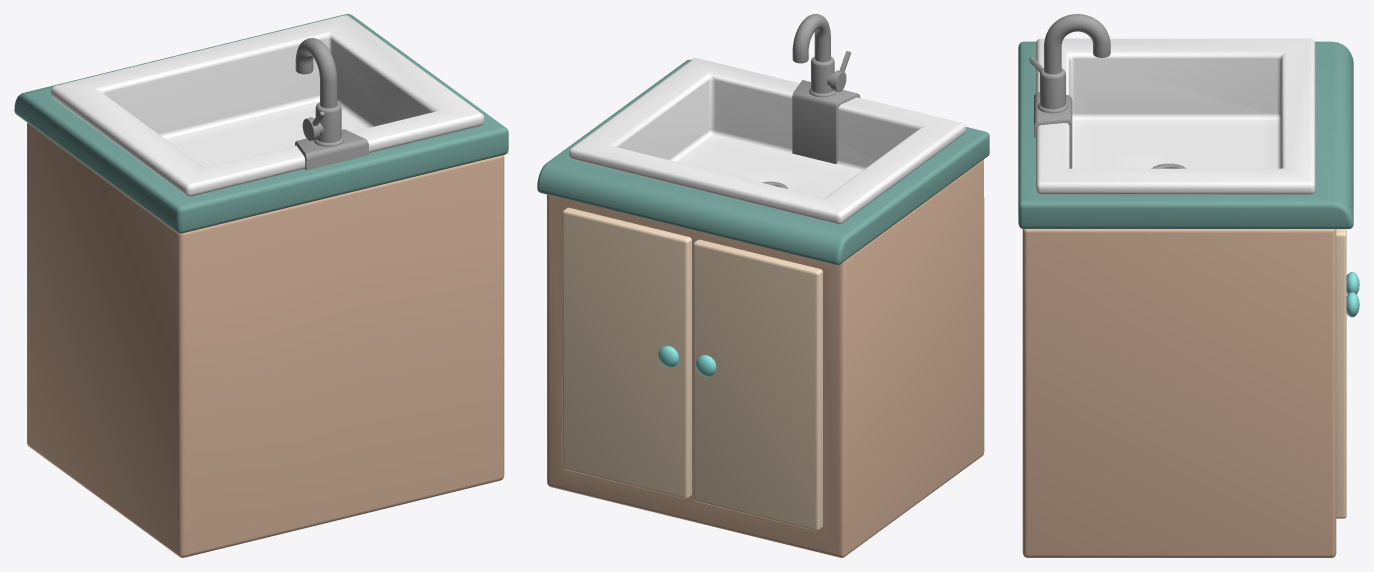
The model's file is zlew_blat.fbx.
3 views of the same model, side by side, from view 1: azimuth 30°, elevation 25°; view 2: azimuth 150°, elevation 25°; view 3: azimuth 270°, elevation 25° (orthographic). The views are drawn at different scales.
Parts seen in each view (by area): view 1: Cube.005, Cube.008, Cube.006, Cylinder.002, Cube.009; view 2: Cube.007, Cube.005, Cube.008, Cube.006, Cube.009, Cylinder.002, Sphere.001; view 3: Cube.005, Cube.008, Cube.006, Cube.007, Cylinder.002, Cube.009, Sphere.001.
Part boxes in pixels (x1,y1,x2,y2): Cube.005: [27, 123, 504, 557]; Cube.008: [51, 15, 484, 196]; Cube.006: [14, 14, 508, 233]; Cylinder.002: [295, 38, 343, 146]; Cube.009: [295, 129, 368, 170]; Cube.007: [562, 207, 822, 530]; Cube.005: [547, 159, 984, 557]; Cube.008: [569, 58, 965, 224]; Cube.006: [537, 59, 989, 265]; Cube.009: [792, 80, 860, 163]; Cylinder.002: [792, 14, 836, 97]; Sphere.001: [658, 345, 716, 376]; Cube.005: [1022, 229, 1336, 557]; Cube.008: [1036, 38, 1315, 194]; Cube.006: [1018, 41, 1353, 228]; Cube.007: [1336, 229, 1346, 518]; Cylinder.002: [1037, 14, 1110, 113]; Cube.009: [1034, 92, 1072, 168]; Sphere.001: [1346, 272, 1359, 317].
Size of the model in its own units: 599 by 528 by 794.
